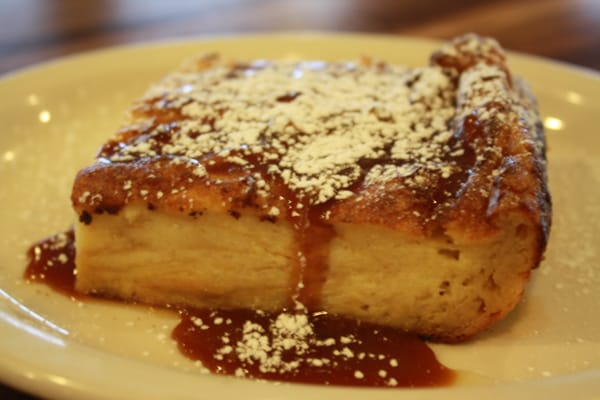sushi: (63, 35, 550, 340)
